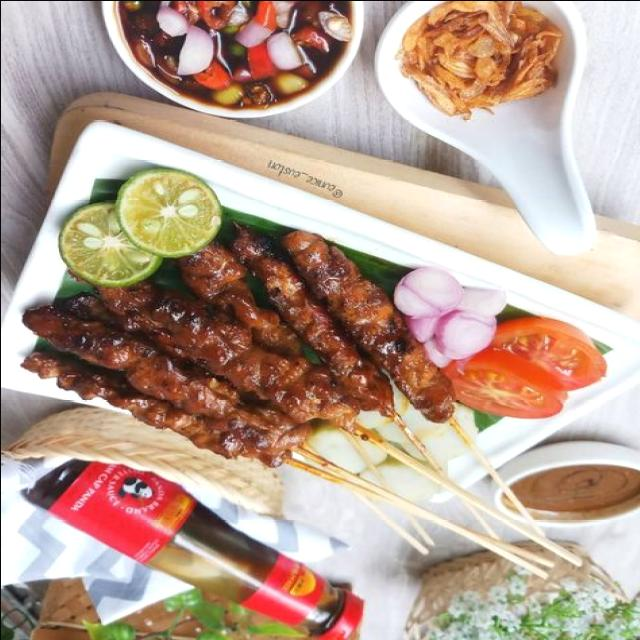sate: (18, 215, 585, 575)
